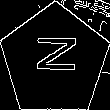N_W: (30, 40, 79, 81)
